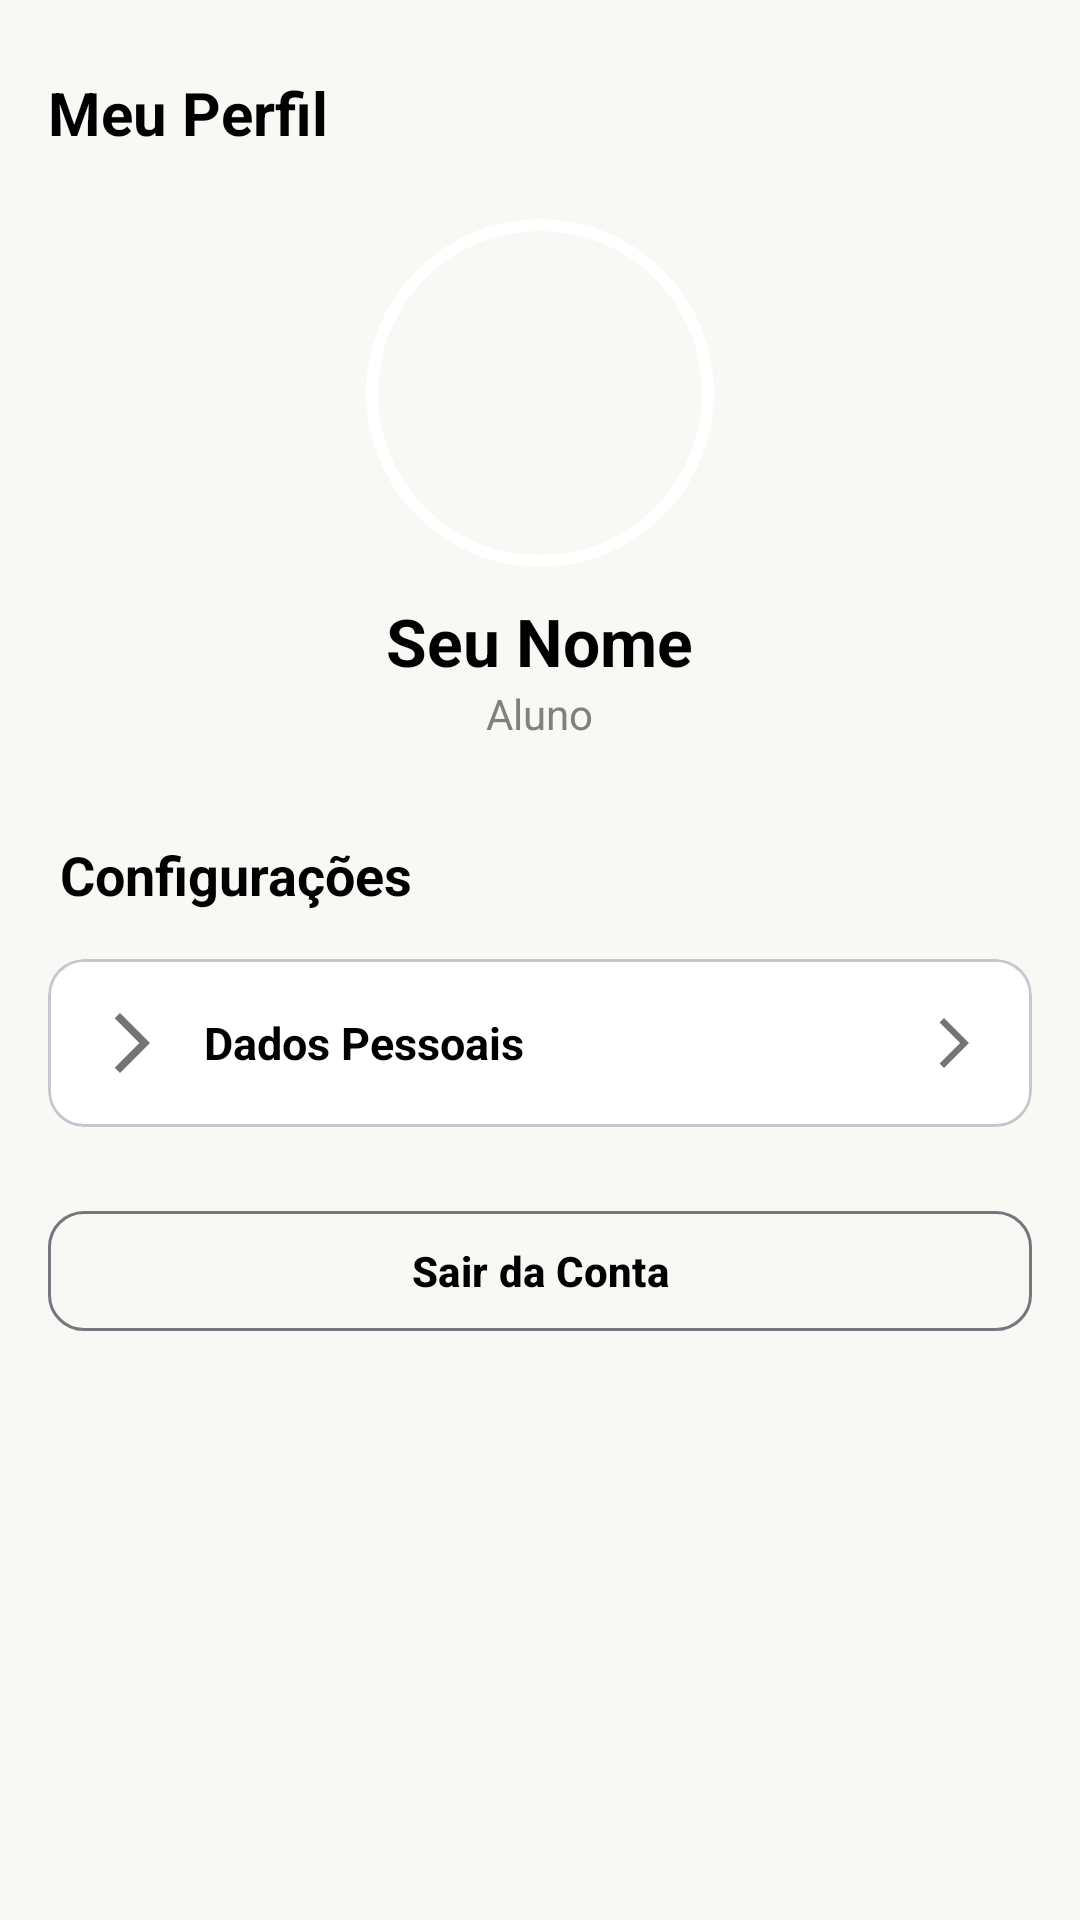

Icons on this 1080 × 1920 Android screen, each with its box as (x1, y1, x2, y2):
arron next: (115, 1013, 150, 1073), (940, 1018, 969, 1068)
